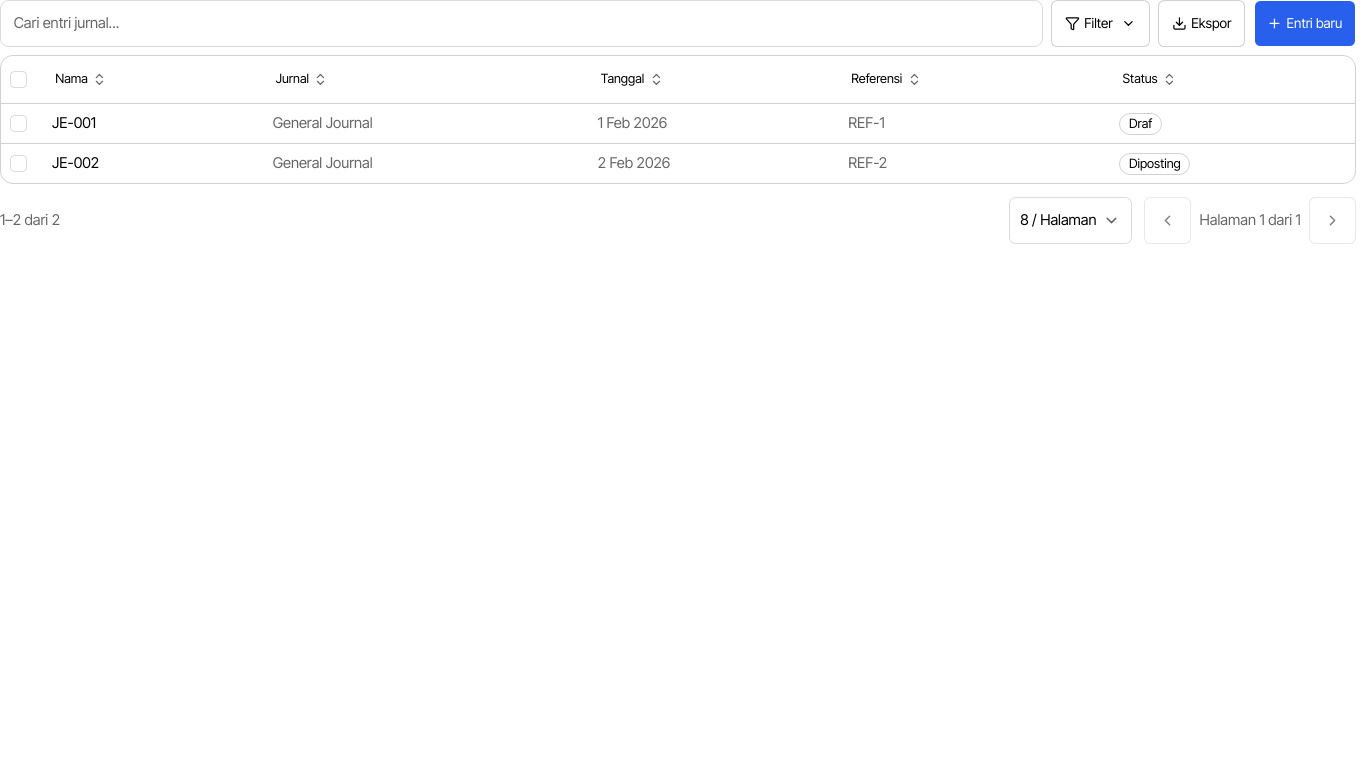
Test: JournalEntriesSection › opens the create dialog from the add button
The image size is (1366, 768).
Expected: the link "JE-001" is shown, [52,114,96,132]
Click the button "Entri baru". click: point(1305, 23)
box: [1254,0,1356,47]
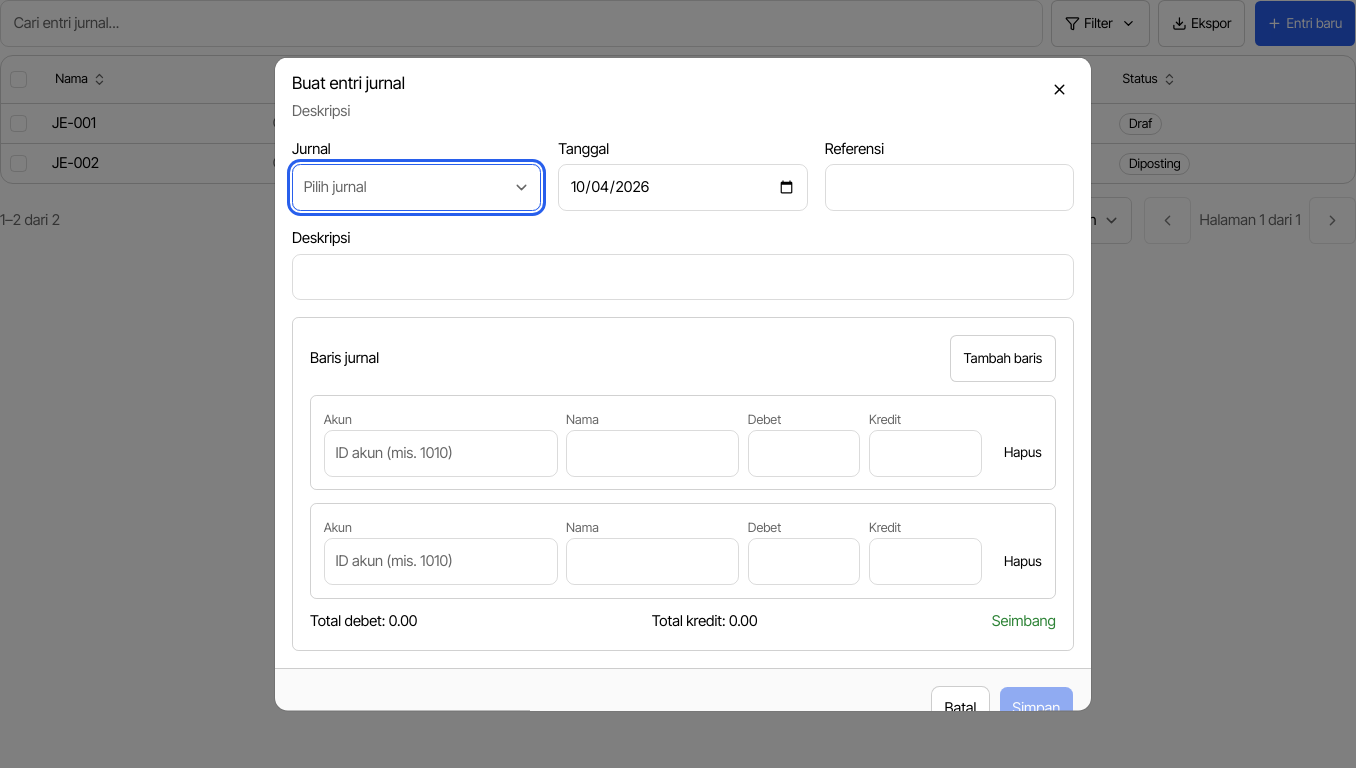
Now the dialog is shown, box [275,58,1091,710]
Now the heading "Buat entri jurnal" is shown, box [292,73,405,93]
